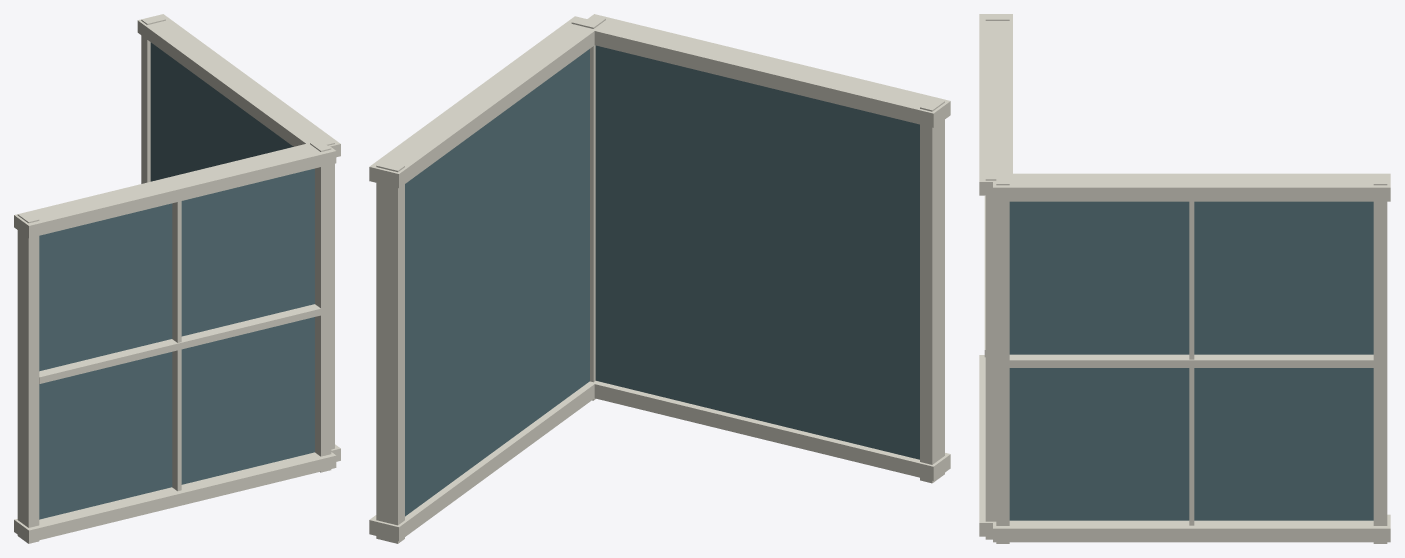
3 renders of one model, left to right at view 1: azimuth 30°, elevation 25°; view 2: azimuth 150°, elevation 25°; view 3: azimuth 270°, elevation 25°, orthographic. The views are drawn at different scales.
Parts seen in each view (by area): view 1: QH-A0099_V02_geometry; view 2: QH-A0099_V02_geometry; view 3: QH-A0099_V02_geometry.
Part boxes in pixels (left/top/right/bottom): QH-A0099_V02_geometry: left=14, top=14, right=340, bottom=543; QH-A0099_V02_geometry: left=369, top=14, right=950, bottom=543; QH-A0099_V02_geometry: left=979, top=14, right=1390, bottom=543.
Bounding box in the file's own units: 2.71 × 2.62 × 2.71.
